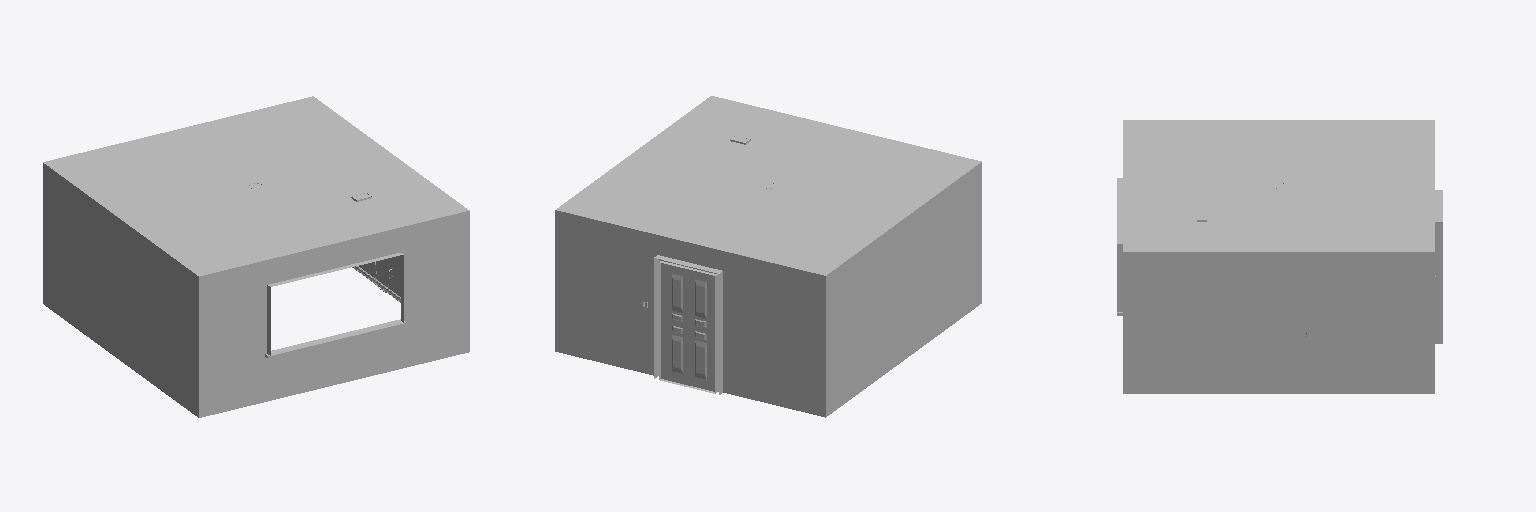
The model's file is static.obj.
3 views of the same model, side by side, from view 1: azimuth 30°, elevation 25°; view 2: azimuth 150°, elevation 25°; view 3: azimuth 270°, elevation 25° (orthographic).
Parts seen in each view (by area): view 1: polySurface71 pCube25, pPlane1, pCube26; view 2: polySurface71 pCube25, pPlane1, polySurface17 polySurface5 Door:polySurface10, polySurface29 Door:pCylinder24; view 3: polySurface71 pCube25, pPlane1, polySurface29 Door:pCylinder24.
Part boxes in pixels (left/top/right/bottom): polySurface71 pCube25: left=43, top=163, right=469, bottom=417; pPlane1: left=43, top=96, right=469, bottom=276; pCube26: left=265, top=319, right=405, bottom=358; polySurface71 pCube25: left=555, top=162, right=981, bottom=417; pPlane1: left=556, top=96, right=981, bottom=275; polySurface17 polySurface5 Door:polySurface10: left=659, top=262, right=714, bottom=393; polySurface29 Door:pCylinder24: left=654, top=255, right=722, bottom=394; polySurface71 pCube25: left=1117, top=178, right=1434, bottom=393; pPlane1: left=1123, top=120, right=1434, bottom=251; polySurface29 Door:pCylinder24: left=1435, top=190, right=1442, bottom=343.
Bounding box in the file's own units: 6.08 × 3.08 × 6.34.